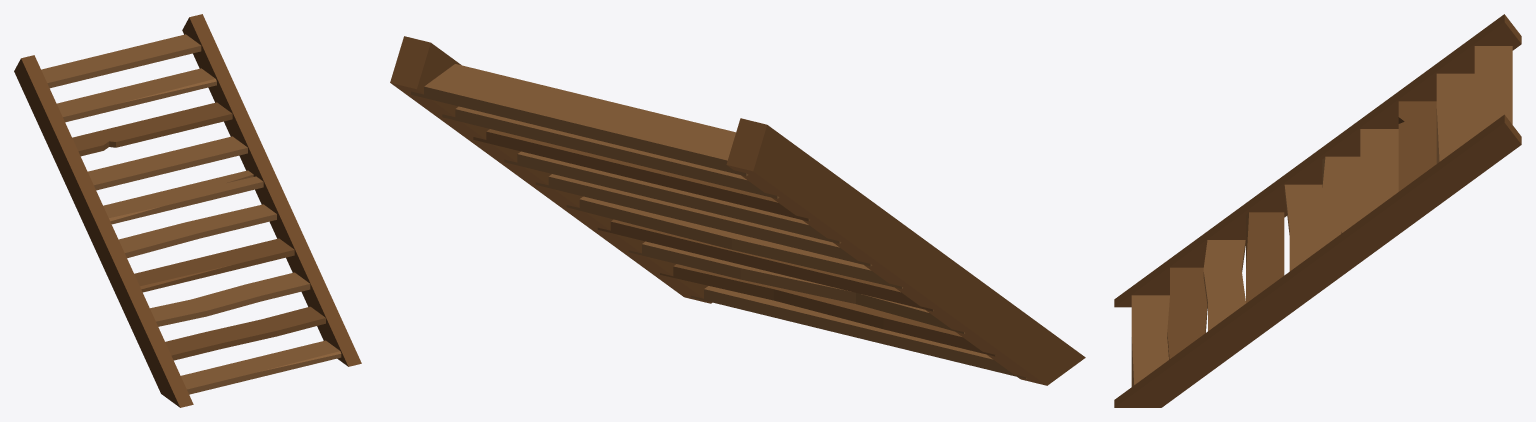
File: HouseStairs_02.fbx
3 views of the same model, side by side, from view 1: azimuth 30°, elevation 25°; view 2: azimuth 150°, elevation 25°; view 3: azimuth 270°, elevation 25° (orthographic). The views are drawn at different scales.
Parts seen in each view (by area): view 1: HouseStairs_02; view 2: HouseStairs_02; view 3: HouseStairs_02.
Part boxes in pixels (x1,y1,x2,y2): HouseStairs_02: [14, 14, 361, 407]; HouseStairs_02: [390, 36, 1085, 385]; HouseStairs_02: [1114, 14, 1521, 407].
Size of the model in its own units: 125 by 153 by 198.
